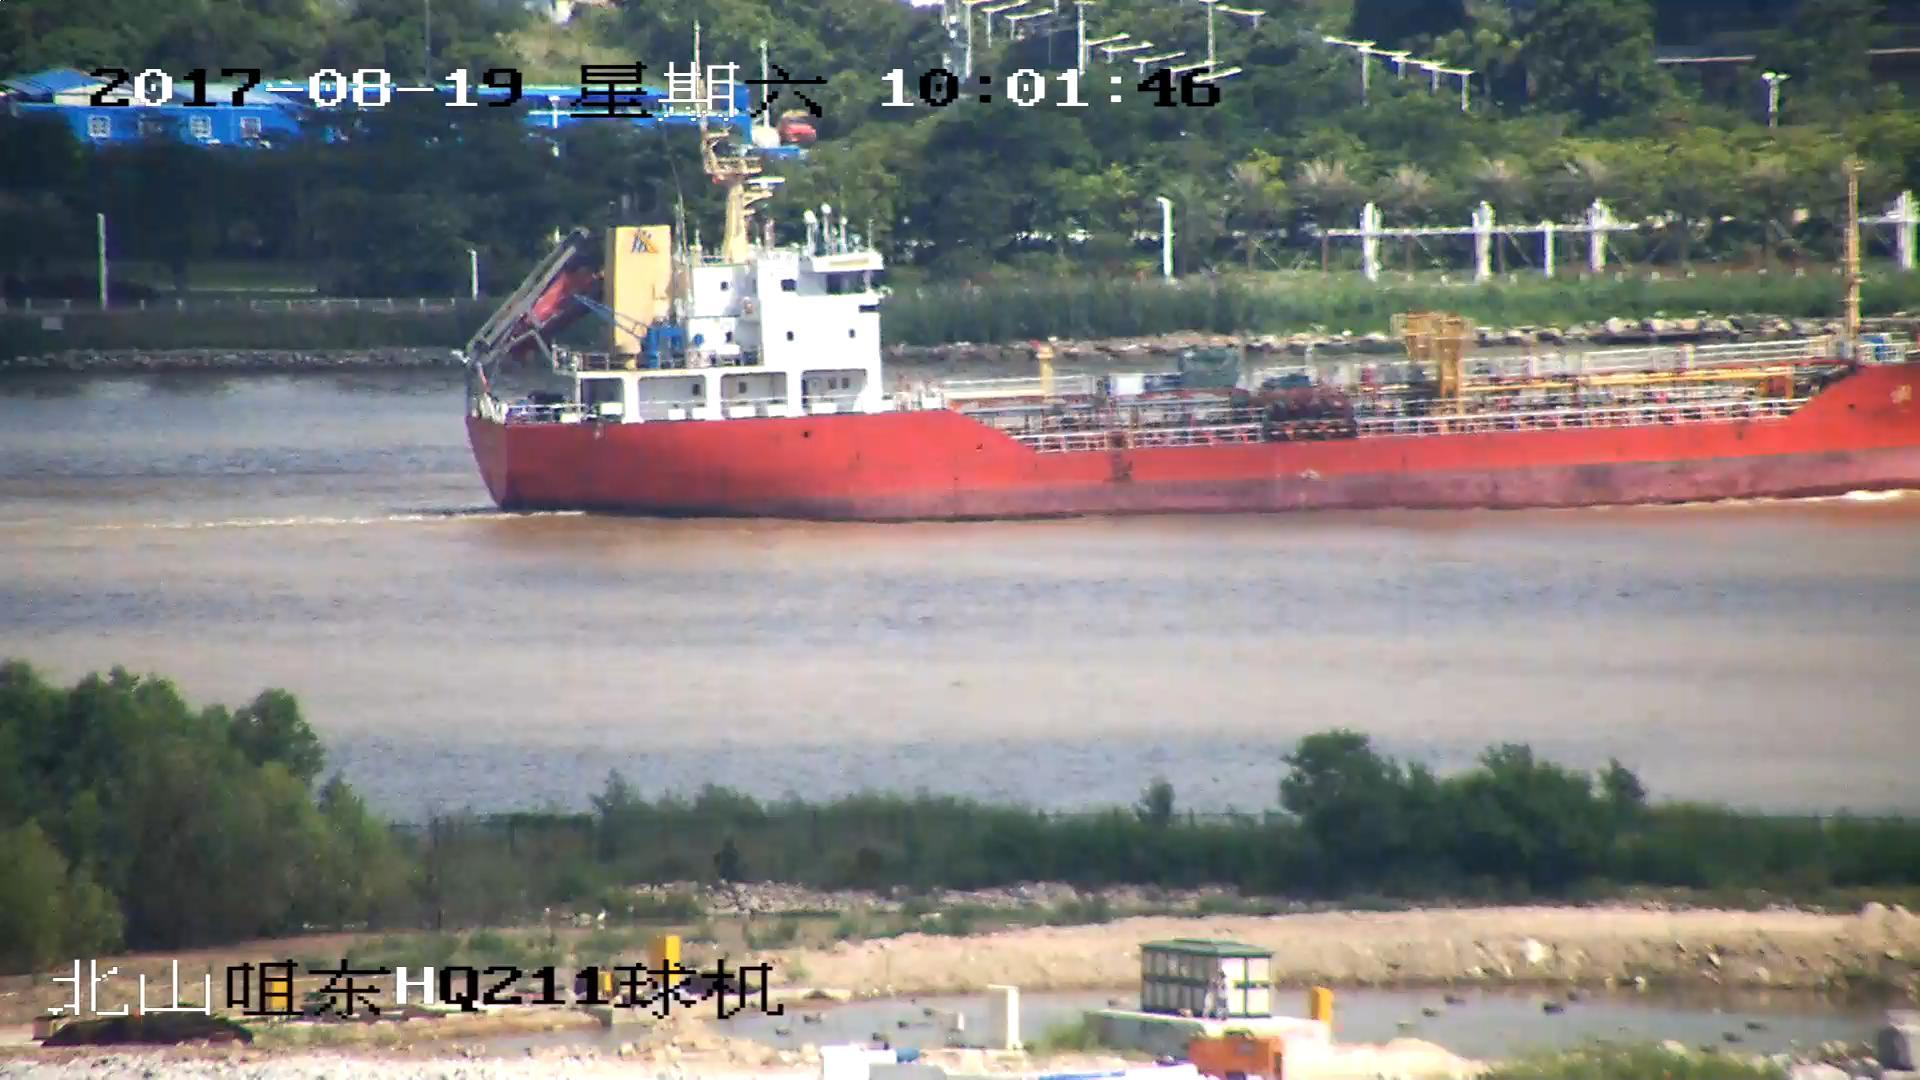Ship: (467, 117, 1920, 524)
